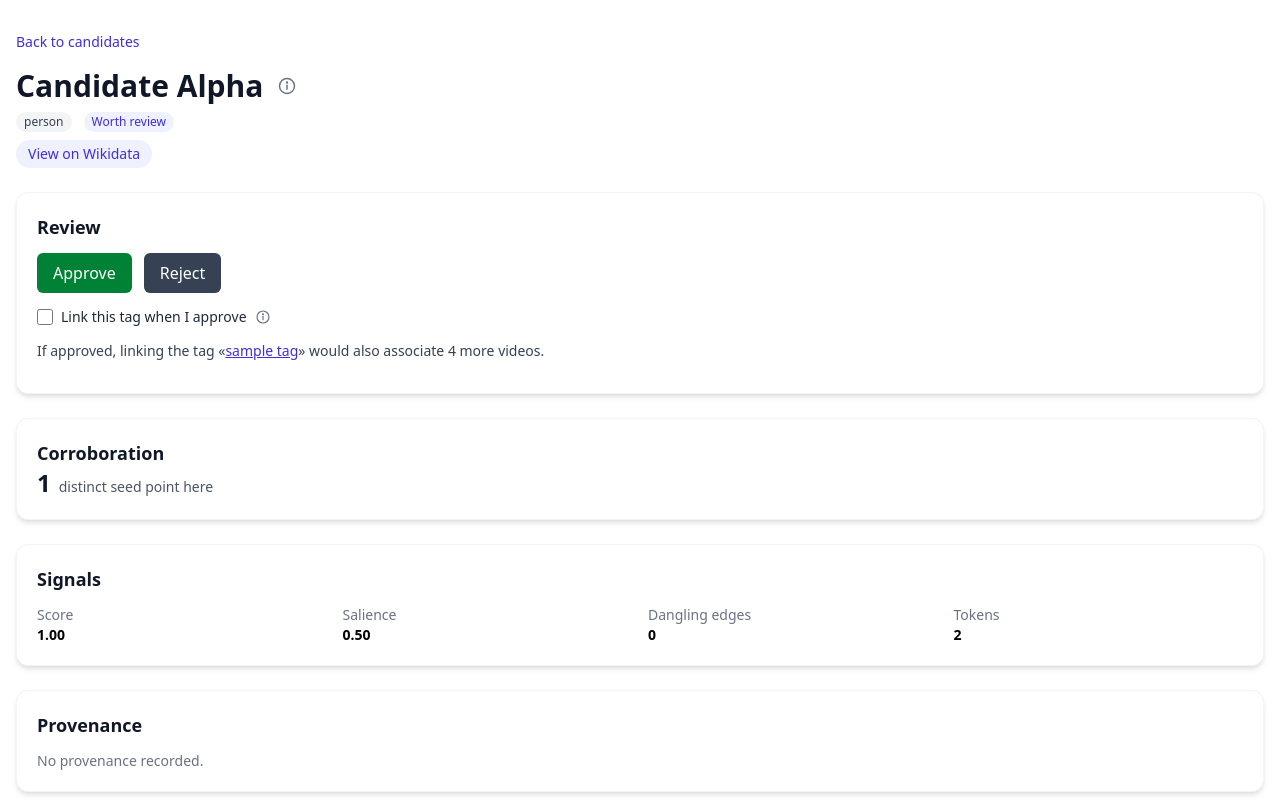
Test: link consequence info › reveals the consequence and dismisses with Escape, returning focus
Expected: the text "linking connects every video that has this tag to this entity" is not shown
Click the button named "what does linking a tag do" at (262, 317), box [250,305,274,329]
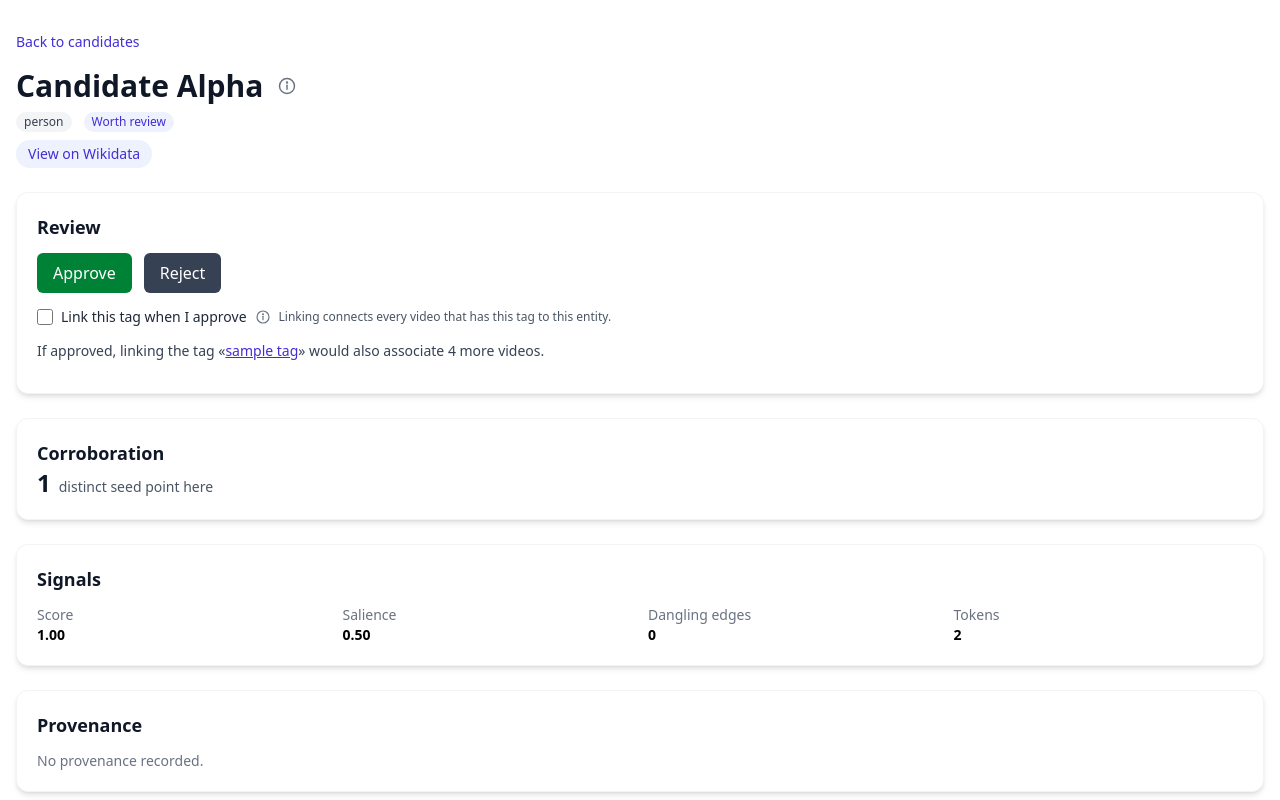
Expected: the text "Linking connects every video that has this tag to this entity" is shown, [278,308,611,325]
Press Escape in the button named "what does linking a tag do", box [250,305,274,329]
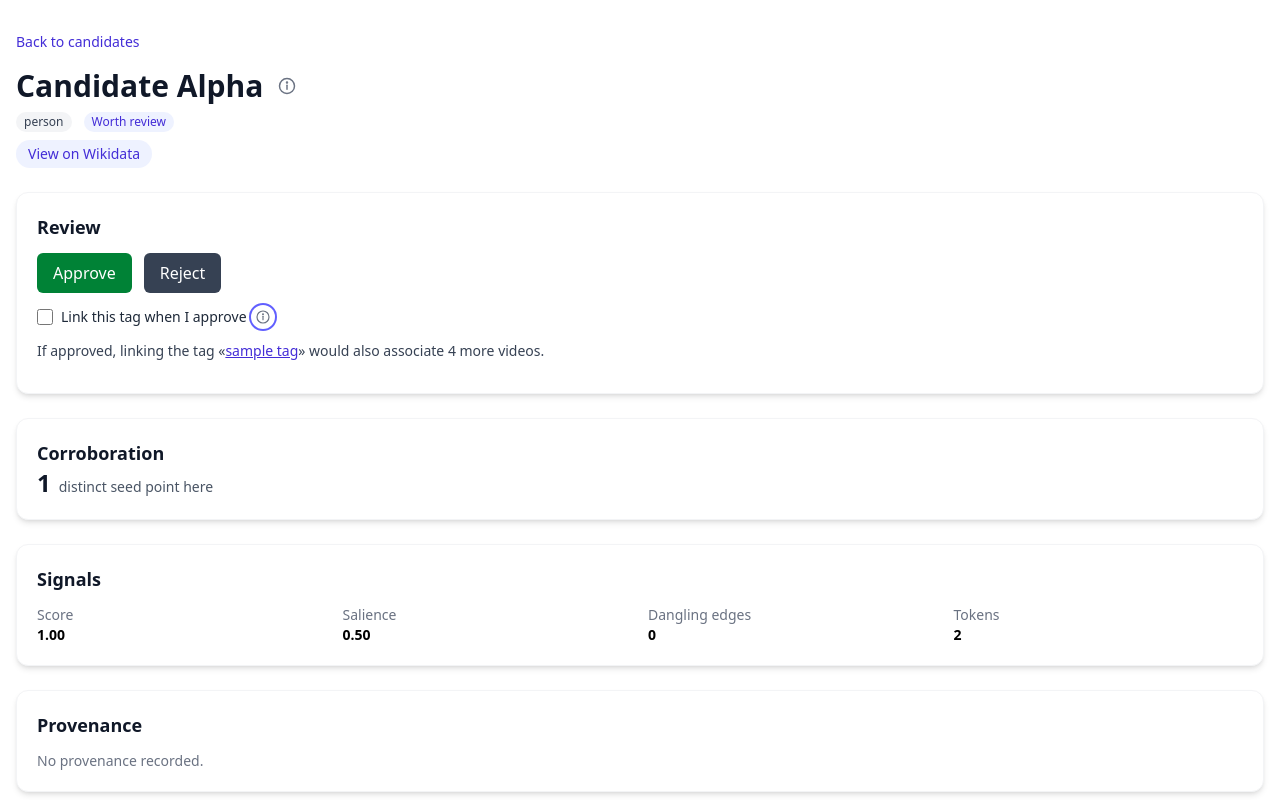
Expected: the text "Linking connects every video that has this tag to this entity" is gone
